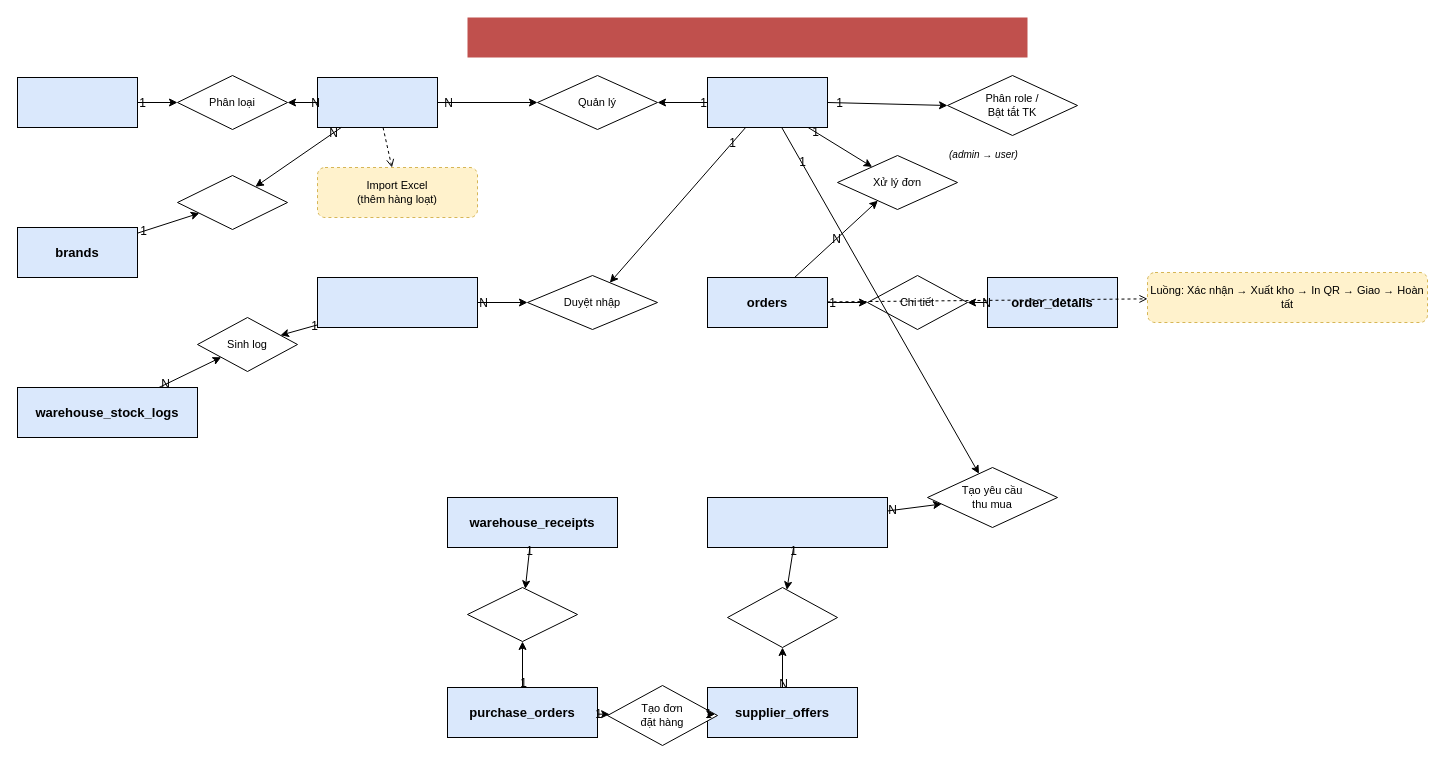
Some shapes in this 1445 by 763 pixel diagram are drawn without their labels. Here are the shapes that lost their labels. From the top down, the centre of each, then its label:
At pixel 747 37: "ADMIN — SƠ ĐỒ THỰC THỂ LIÊN KẾT (ERD)".
At pixel 77 102: "categories".
At pixel 377 102: "products".
At pixel 767 102: "users".
At pixel 232 202: "Của".
At pixel 397 302: "warehouse_imports".
At pixel 797 522: "procurement_requests".
At pixel 522 614: "Nhập kho".
At pixel 782 617: "Nhận báo giá".
